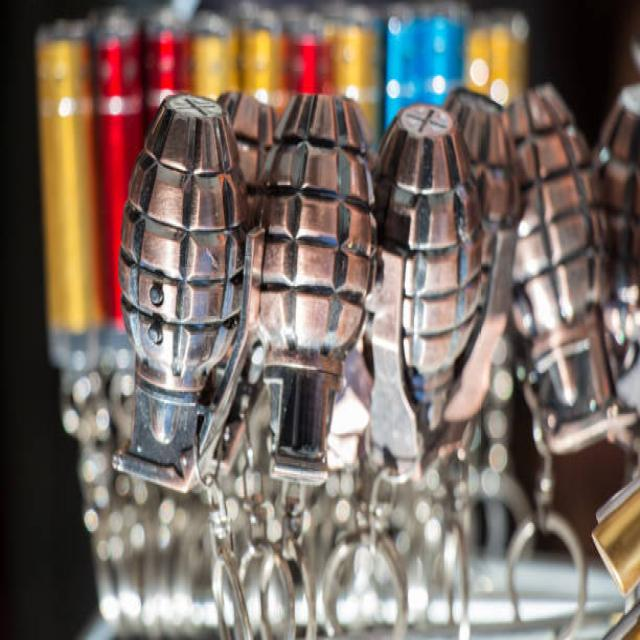grenade: (101, 81, 269, 490)
